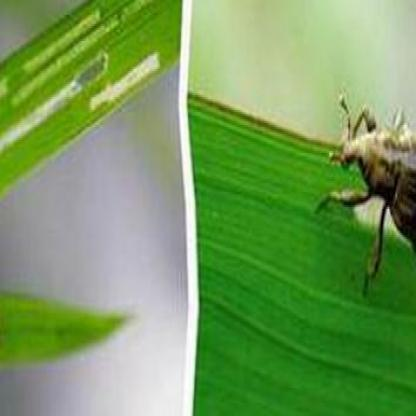rice-bug: (337, 105, 416, 258)
